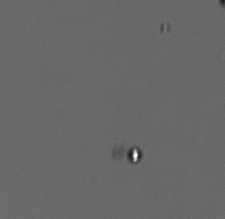Living Cell: (126, 146, 142, 163)
